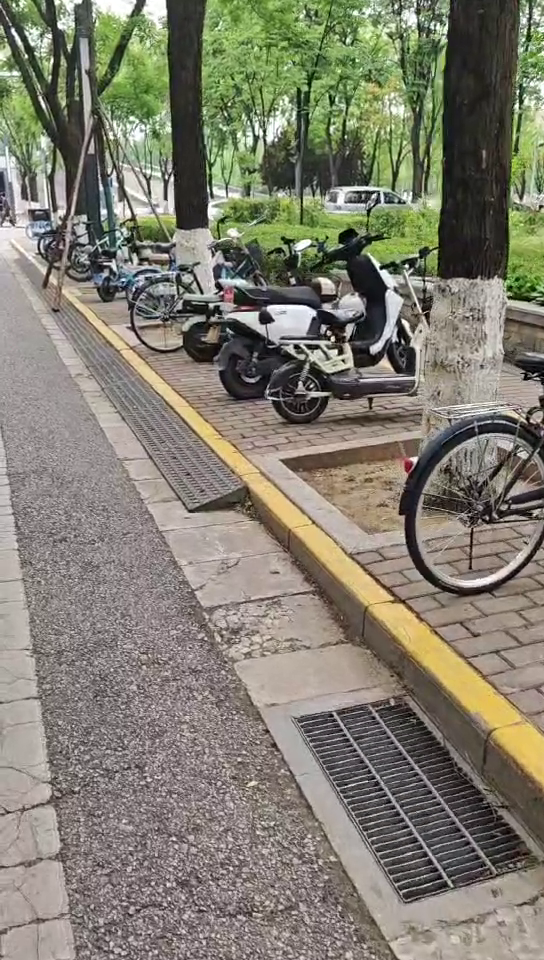others: (198, 226, 420, 397), (250, 256, 442, 415)
